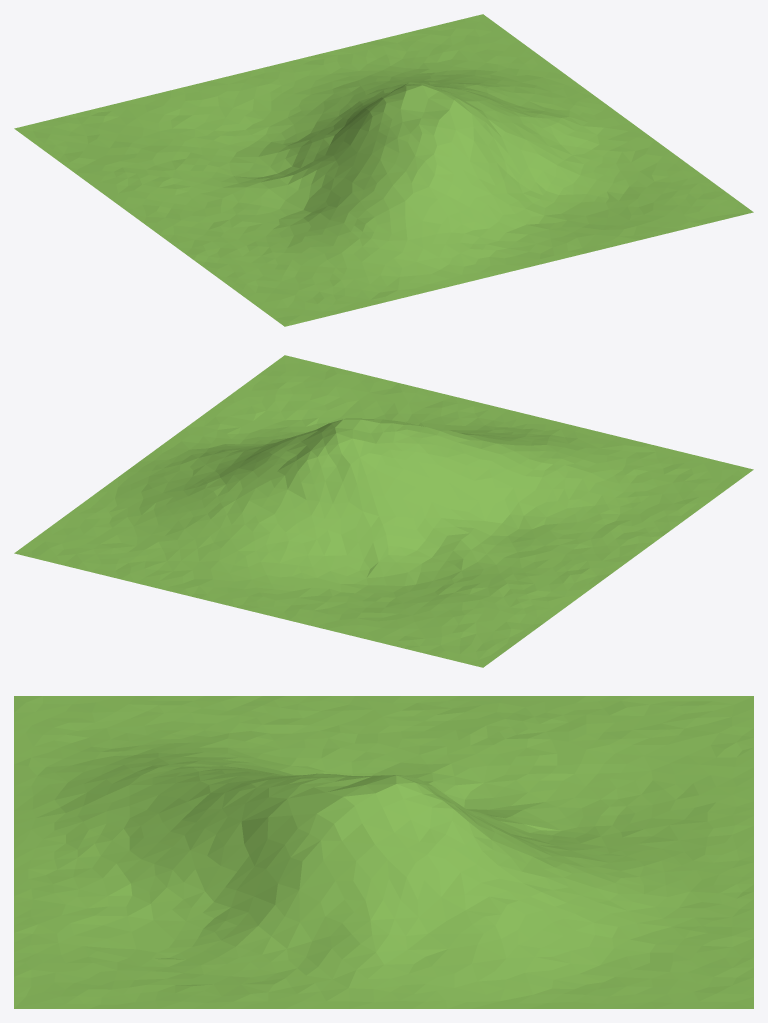
Rendered from MT_Terrain_L_a_12_LOD.fbx.
3 renders of one model, top to bottom at view 1: azimuth 30°, elevation 25°; view 2: azimuth 150°, elevation 25°; view 3: azimuth 270°, elevation 25°, orthographic. The views are drawn at different scales.
Parts seen in each view (by area): view 1: MT_Terrain_L_a_12_LOD0; view 2: MT_Terrain_L_a_12_LOD0; view 3: MT_Terrain_L_a_12_LOD0.
Part boxes in pixels (<box>): MT_Terrain_L_a_12_LOD0: <box>14,14,753,326</box>; MT_Terrain_L_a_12_LOD0: <box>14,355,753,667</box>; MT_Terrain_L_a_12_LOD0: <box>14,696,753,1008</box>.
Size of what is drawn, in the model's own units: 10001 by 1622 by 10000.
